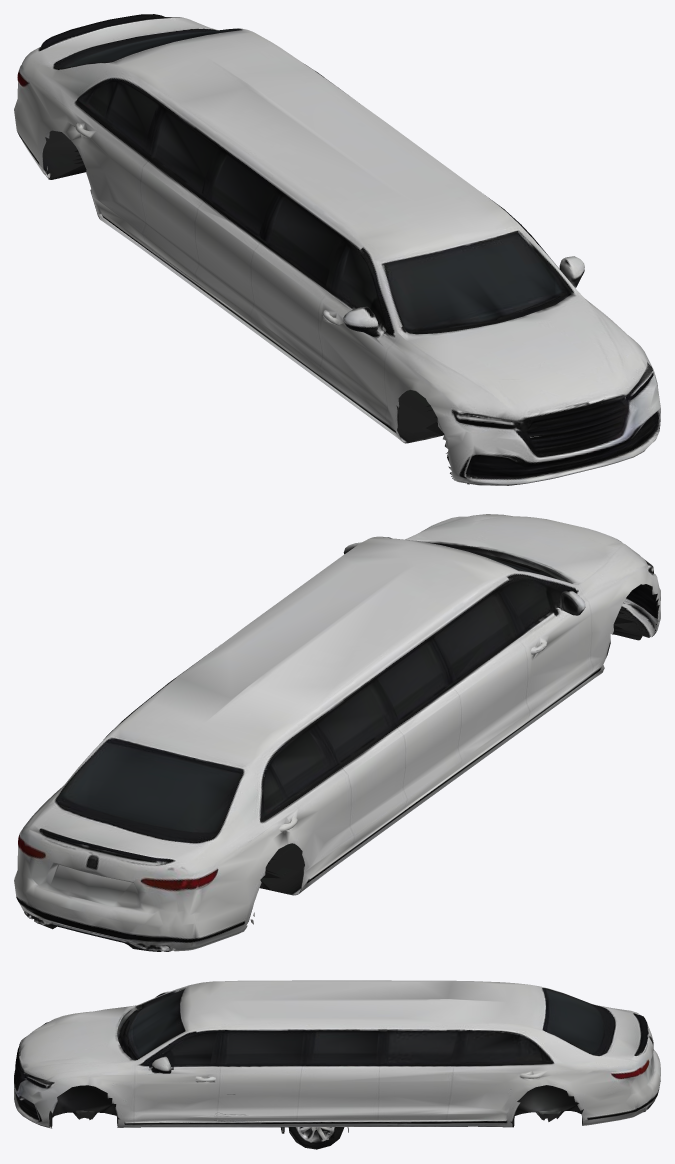
The model's file is limo.glb.
The picture shows the model from 3 angles, top to bottom: view 1: azimuth 30°, elevation 25°; view 2: azimuth 150°, elevation 25°; view 3: azimuth 270°, elevation 25°; orthographic projection. The views are drawn at different scales.
Parts seen in each view (by area): view 1: body; view 2: body; view 3: body, wheel.
Boxes of the visible parts, x1,y1,x2,y2 form: body: [14, 14, 660, 485]; body: [14, 514, 660, 951]; body: [14, 980, 660, 1128]; wheel: [280, 1127, 348, 1149].
Size of what is drawn, in the model's own units: 2.01 by 1.82 by 7.25.
1 material, 1 textured.
